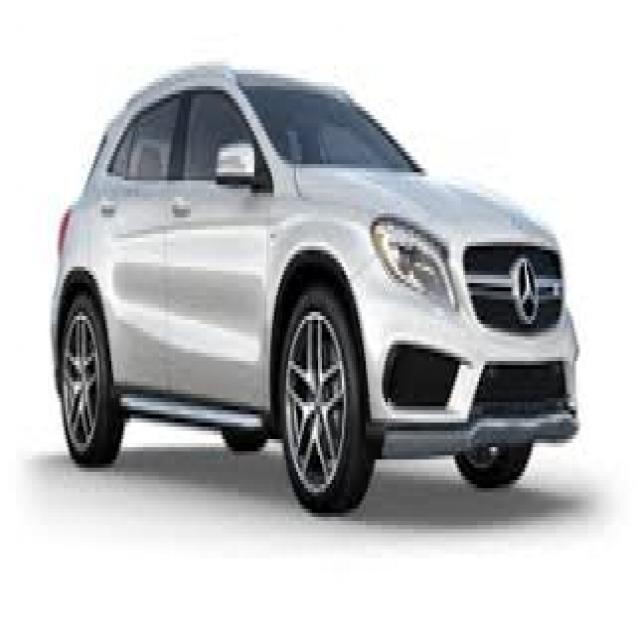Car: (51, 59, 583, 518)
